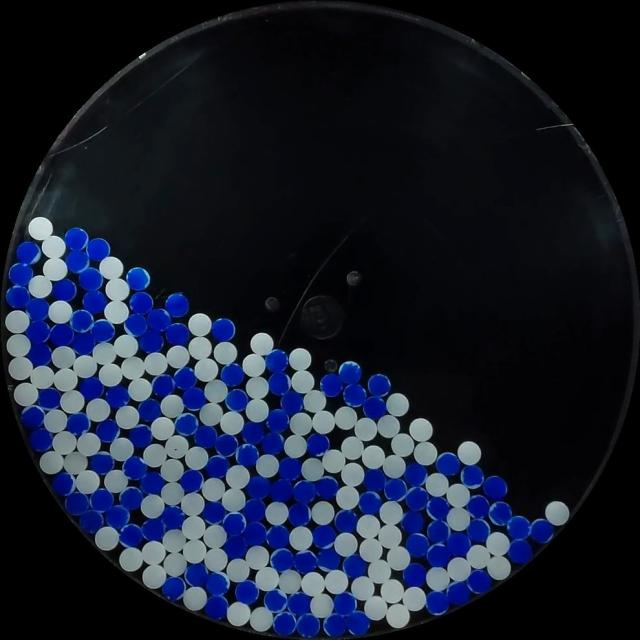pmmma-azul: (527, 518, 554, 544), (466, 568, 492, 594), (507, 538, 532, 564), (118, 523, 144, 548), (49, 322, 75, 347), (345, 610, 370, 636), (404, 486, 429, 512), (246, 475, 271, 501), (119, 486, 144, 511), (242, 521, 267, 546), (402, 562, 427, 587), (482, 475, 507, 500), (25, 297, 50, 322), (342, 382, 367, 407), (20, 405, 46, 429), (362, 396, 388, 420), (205, 570, 229, 596), (273, 610, 297, 636), (446, 580, 470, 606), (204, 594, 228, 620), (26, 318, 50, 344), (316, 547, 340, 573), (182, 386, 207, 410), (363, 467, 387, 492), (222, 534, 247, 558), (466, 494, 490, 519), (95, 419, 120, 443), (174, 366, 198, 391), (89, 488, 114, 512), (426, 542, 450, 567), (184, 562, 208, 587), (202, 500, 227, 524), (488, 500, 512, 525), (234, 580, 259, 604), (426, 519, 450, 544), (165, 292, 189, 317), (90, 319, 115, 343), (296, 613, 321, 637), (140, 471, 165, 495), (242, 498, 266, 523), (66, 412, 91, 436), (292, 550, 317, 574), (332, 592, 357, 616), (446, 532, 471, 556), (405, 532, 429, 557), (194, 424, 218, 449), (28, 342, 52, 367), (65, 249, 90, 273), (400, 509, 424, 534), (82, 290, 107, 314), (8, 262, 33, 286), (79, 508, 104, 532), (52, 278, 77, 302), (425, 590, 449, 615), (436, 451, 460, 476), (89, 451, 114, 475), (78, 267, 103, 291), (179, 469, 203, 493), (270, 548, 294, 572), (165, 322, 189, 346), (80, 376, 104, 400), (225, 388, 249, 412), (204, 454, 228, 478), (287, 592, 311, 616), (222, 512, 246, 536), (161, 506, 185, 530), (65, 491, 89, 515), (506, 516, 530, 540), (278, 456, 302, 480), (30, 428, 54, 452), (466, 518, 490, 542), (280, 391, 304, 415), (141, 517, 165, 541), (162, 576, 186, 600), (106, 384, 130, 408), (138, 398, 162, 422), (260, 432, 284, 456), (266, 525, 290, 549), (123, 455, 147, 479), (212, 317, 236, 341), (126, 267, 150, 291), (128, 424, 152, 448), (87, 237, 111, 261), (240, 420, 264, 444), (367, 373, 391, 397), (71, 331, 95, 355), (426, 496, 450, 520), (6, 285, 30, 309), (65, 227, 89, 251), (265, 349, 289, 373), (124, 313, 148, 337), (342, 554, 367, 577), (404, 462, 427, 487), (37, 387, 62, 410), (236, 443, 259, 468), (138, 330, 163, 353), (147, 308, 172, 331), (286, 504, 312, 526), (383, 478, 407, 501), (264, 589, 288, 612), (51, 472, 75, 495), (312, 524, 335, 548), (358, 490, 381, 514), (293, 480, 316, 504), (334, 509, 357, 533), (323, 613, 346, 637), (306, 433, 330, 456), (174, 413, 198, 436), (267, 371, 290, 395), (16, 241, 40, 264), (266, 408, 289, 432), (338, 361, 362, 384), (105, 505, 129, 528), (129, 292, 154, 314), (315, 476, 338, 499), (214, 433, 237, 456), (461, 464, 484, 487), (71, 309, 94, 332), (220, 364, 244, 386), (320, 373, 342, 397), (269, 480, 293, 502), (152, 374, 174, 397)
